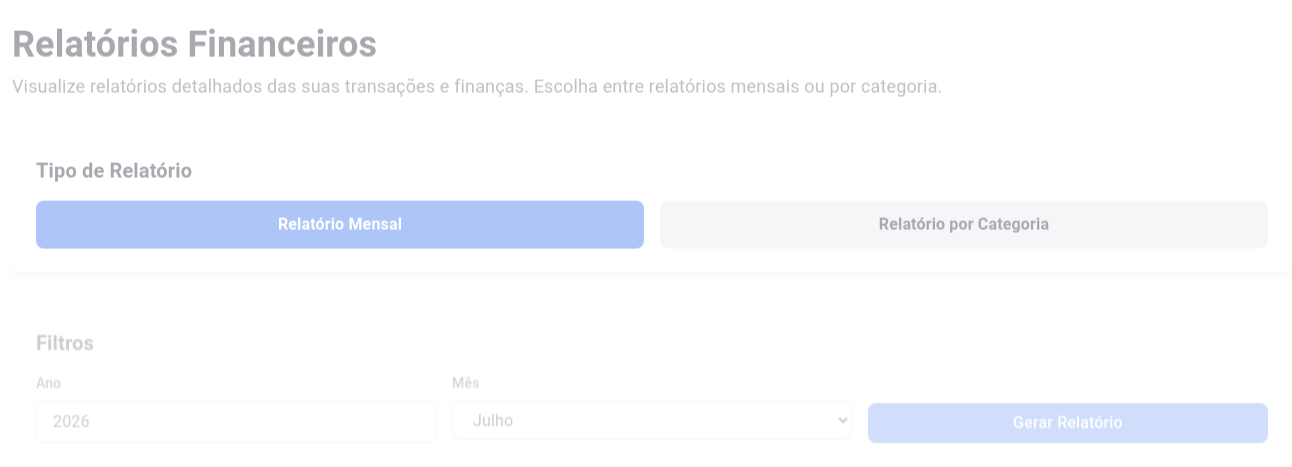
Test case: ReportsPage Component › ReportsPage Component › should display loading state when generating report
The width and height of the screenshot is (1292, 467).
Click the button "Gerar Relatório" at [1068, 423], box x1=868 y1=403 x2=1268 y2=443
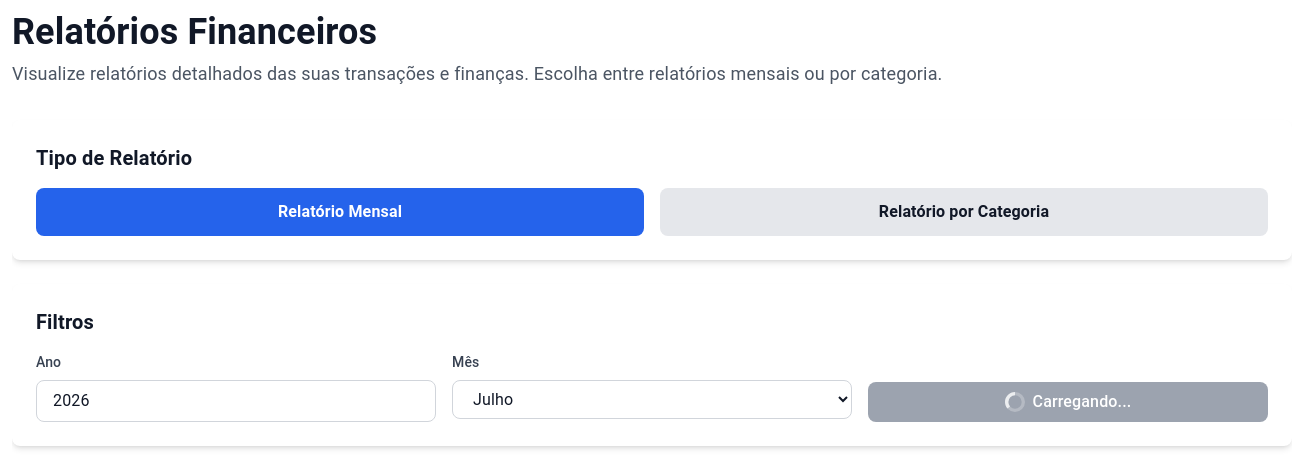
Check: the text "Carregando..." is shown, box x1=1004 y1=392 x2=1131 y2=412
